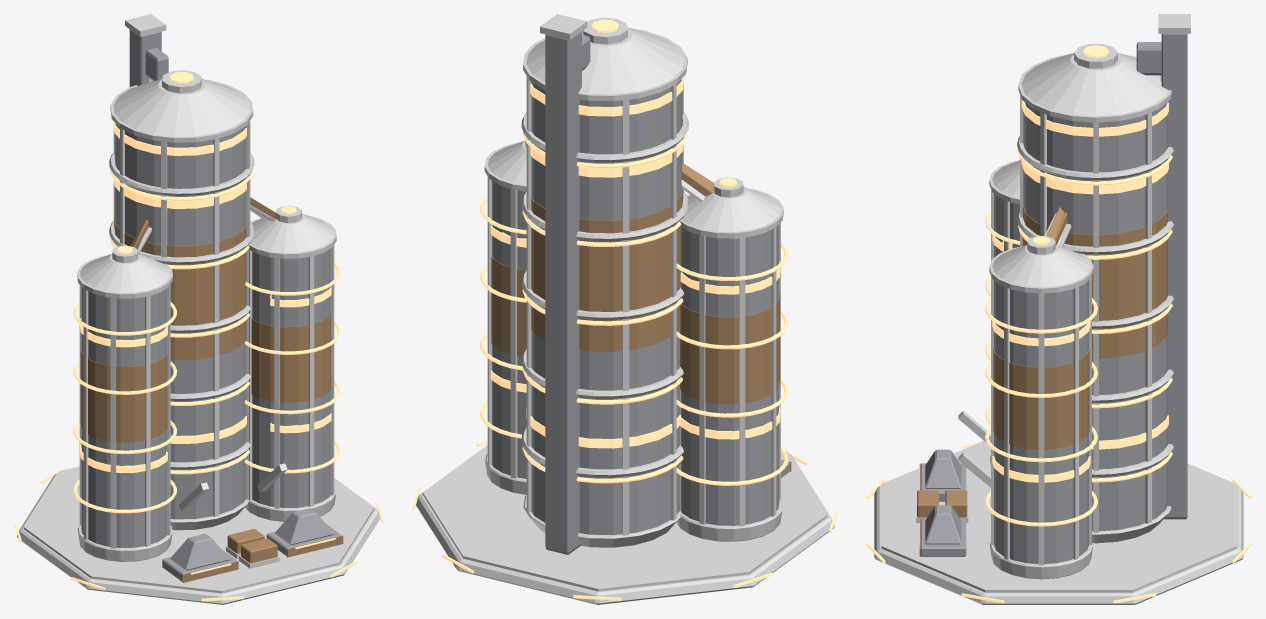
Rendered from sb_silo_t3.glb.
3 renders of one model, left to right at view 1: azimuth 30°, elevation 25°; view 2: azimuth 150°, elevation 25°; view 3: azimuth 270°, elevation 25°, orthographic. The views are drawn at different scales.
Parts seen in each view (by area): view 1: SM_SL_MAIN_BODY, SM_SL_MAIN_RIBS, SM_SL_PLINTH_TOP, SM_SL_L_BODY, SM_SL_R_BODY, SM_SL_L_RIBS, SM_SL_R_RIBS, SM_SL_MAIN_TINT, SM_SL3_BANDS_GLOW, SM_SL_GLOW, SM_SL_L_TINT, SM_SL_R_TINT (+10 smaller); view 2: SM_SL_MAIN_BODY, SM_SL_PLINTH_TOP, SM_SL_ELEV, SM_SL_MAIN_RIBS, SM_SL_L_BODY, SM_SL_MAIN_TINT, SM_SL_L_RIBS, SM_SL3_BANDS_GLOW, SM_SL_L_TINT, SM_SL_GLOW, SM_SL3_STRAPS, SM_SL_PLINTH (+8 smaller); view 3: SM_SL_MAIN_BODY, SM_SL_PLINTH_TOP, SM_SL_MAIN_RIBS, SM_SL_R_BODY, SM_SL_ELEV, SM_SL_R_RIBS, SM_SL_MAIN_TINT, SM_SL_R_TINT, SM_SL_GLOW, SM_SL_PLINTH, SM_SL3_BANDS_GLOW, SM_SL3_STRAPS (+8 smaller).
Boxes of the visible parts, bbox=[...] form: SM_SL_MAIN_BODY: bbox=[114, 123, 245, 519]; SM_SL_MAIN_RIBS: bbox=[110, 70, 253, 516]; SM_SL_PLINTH_TOP: bbox=[23, 466, 374, 593]; SM_SL_L_BODY: bbox=[81, 286, 166, 547]; SM_SL_R_BODY: bbox=[252, 249, 330, 507]; SM_SL_L_RIBS: bbox=[77, 245, 172, 548]; SM_SL_R_RIBS: bbox=[248, 205, 336, 508]; SM_SL_MAIN_TINT: bbox=[114, 214, 246, 360]; SM_SL3_BANDS_GLOW: bbox=[73, 169, 340, 513]; SM_SL_GLOW: bbox=[14, 72, 383, 601]; SM_SL_L_TINT: bbox=[80, 346, 167, 442]; SM_SL_R_TINT: bbox=[251, 314, 330, 402]; SM_SL_MAIN_BODY: bbox=[531, 79, 682, 535]; SM_SL_PLINTH_TOP: bbox=[422, 445, 827, 591]; SM_SL_ELEV: bbox=[545, 32, 590, 554]; SM_SL_MAIN_RIBS: bbox=[523, 17, 687, 535]; SM_SL_L_BODY: bbox=[680, 224, 779, 525]; SM_SL_MAIN_TINT: bbox=[531, 189, 683, 351]; SM_SL_L_RIBS: bbox=[679, 177, 783, 526]; SM_SL3_BANDS_GLOW: bbox=[480, 131, 788, 485]; SM_SL_L_TINT: bbox=[680, 293, 779, 404]; SM_SL_GLOW: bbox=[412, 19, 837, 600]; SM_SL3_STRAPS: bbox=[521, 112, 688, 477]; SM_SL_PLINTH: bbox=[416, 453, 834, 604]; SM_SL_MAIN_BODY: bbox=[1023, 102, 1167, 531]; SM_SL_PLINTH_TOP: bbox=[881, 441, 1236, 592]; SM_SL_MAIN_RIBS: bbox=[1018, 44, 1171, 532]; SM_SL_R_BODY: bbox=[994, 280, 1088, 563]; SM_SL_ELEV: bbox=[1136, 33, 1187, 519]; SM_SL_R_RIBS: bbox=[989, 236, 1093, 565]; SM_SL_MAIN_TINT: bbox=[1022, 205, 1167, 358]; SM_SL_R_TINT: bbox=[993, 348, 1089, 449]; SM_SL_GLOW: bbox=[866, 45, 1251, 603]; SM_SL_PLINTH: bbox=[874, 486, 1243, 604]; SM_SL3_BANDS_GLOW: bbox=[985, 151, 1172, 526]; SM_SL3_STRAPS: bbox=[1017, 136, 1173, 476].
Bounding box in the file's own units: 35.33 × 51.2 × 35.33.
